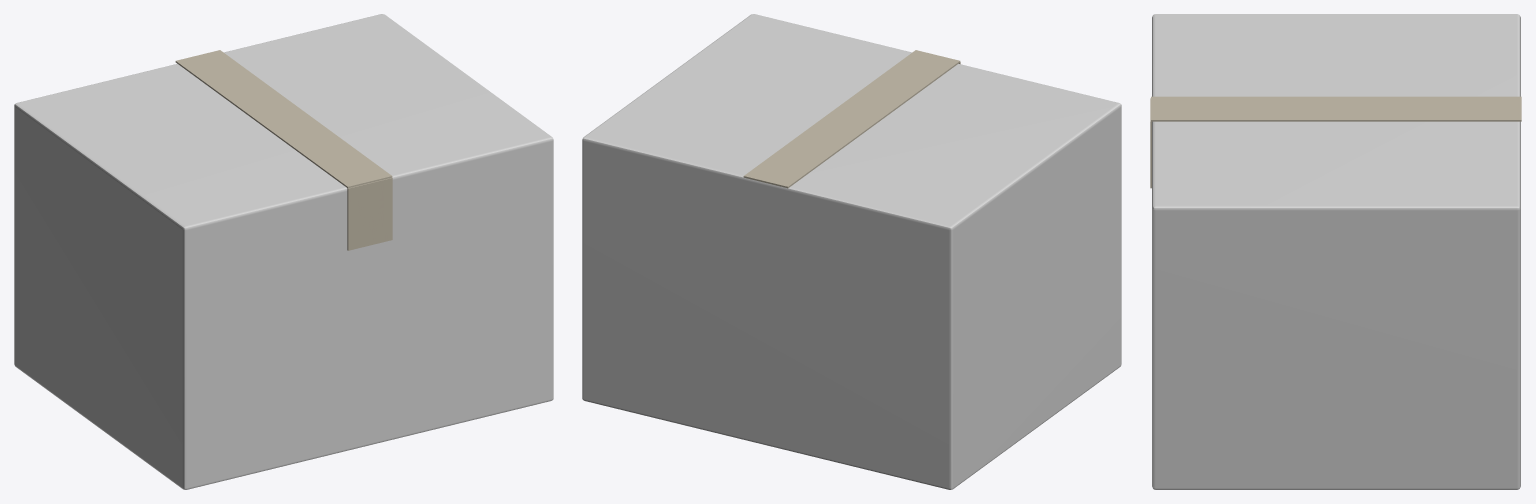
3 renders of one model, left to right at view 1: azimuth 30°, elevation 25°; view 2: azimuth 150°, elevation 25°; view 3: azimuth 270°, elevation 25°, orthographic. The views are drawn at different scales.
Parts seen in each view (by area): view 1: SM_Box_A_1; view 2: SM_Box_A_1; view 3: SM_Box_A_1.
Boxes of the visible parts, x1=… form: SM_Box_A_1: x1=14, y1=14, x2=553, y2=489; SM_Box_A_1: x1=582, y1=14, x2=1121, y2=489; SM_Box_A_1: x1=1150, y1=14, x2=1521, y2=489.
Bounding box in the file's own units: 50 × 34.2 × 40.3.
